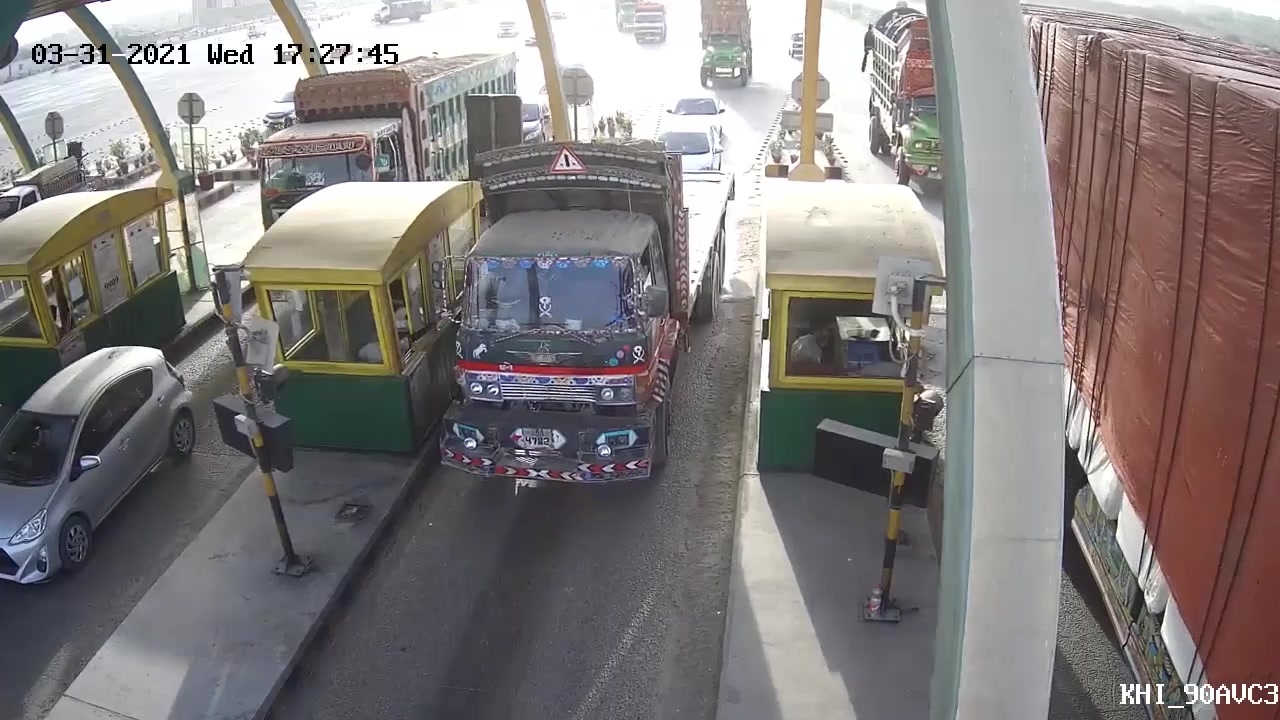F6: (443, 134, 739, 502)
